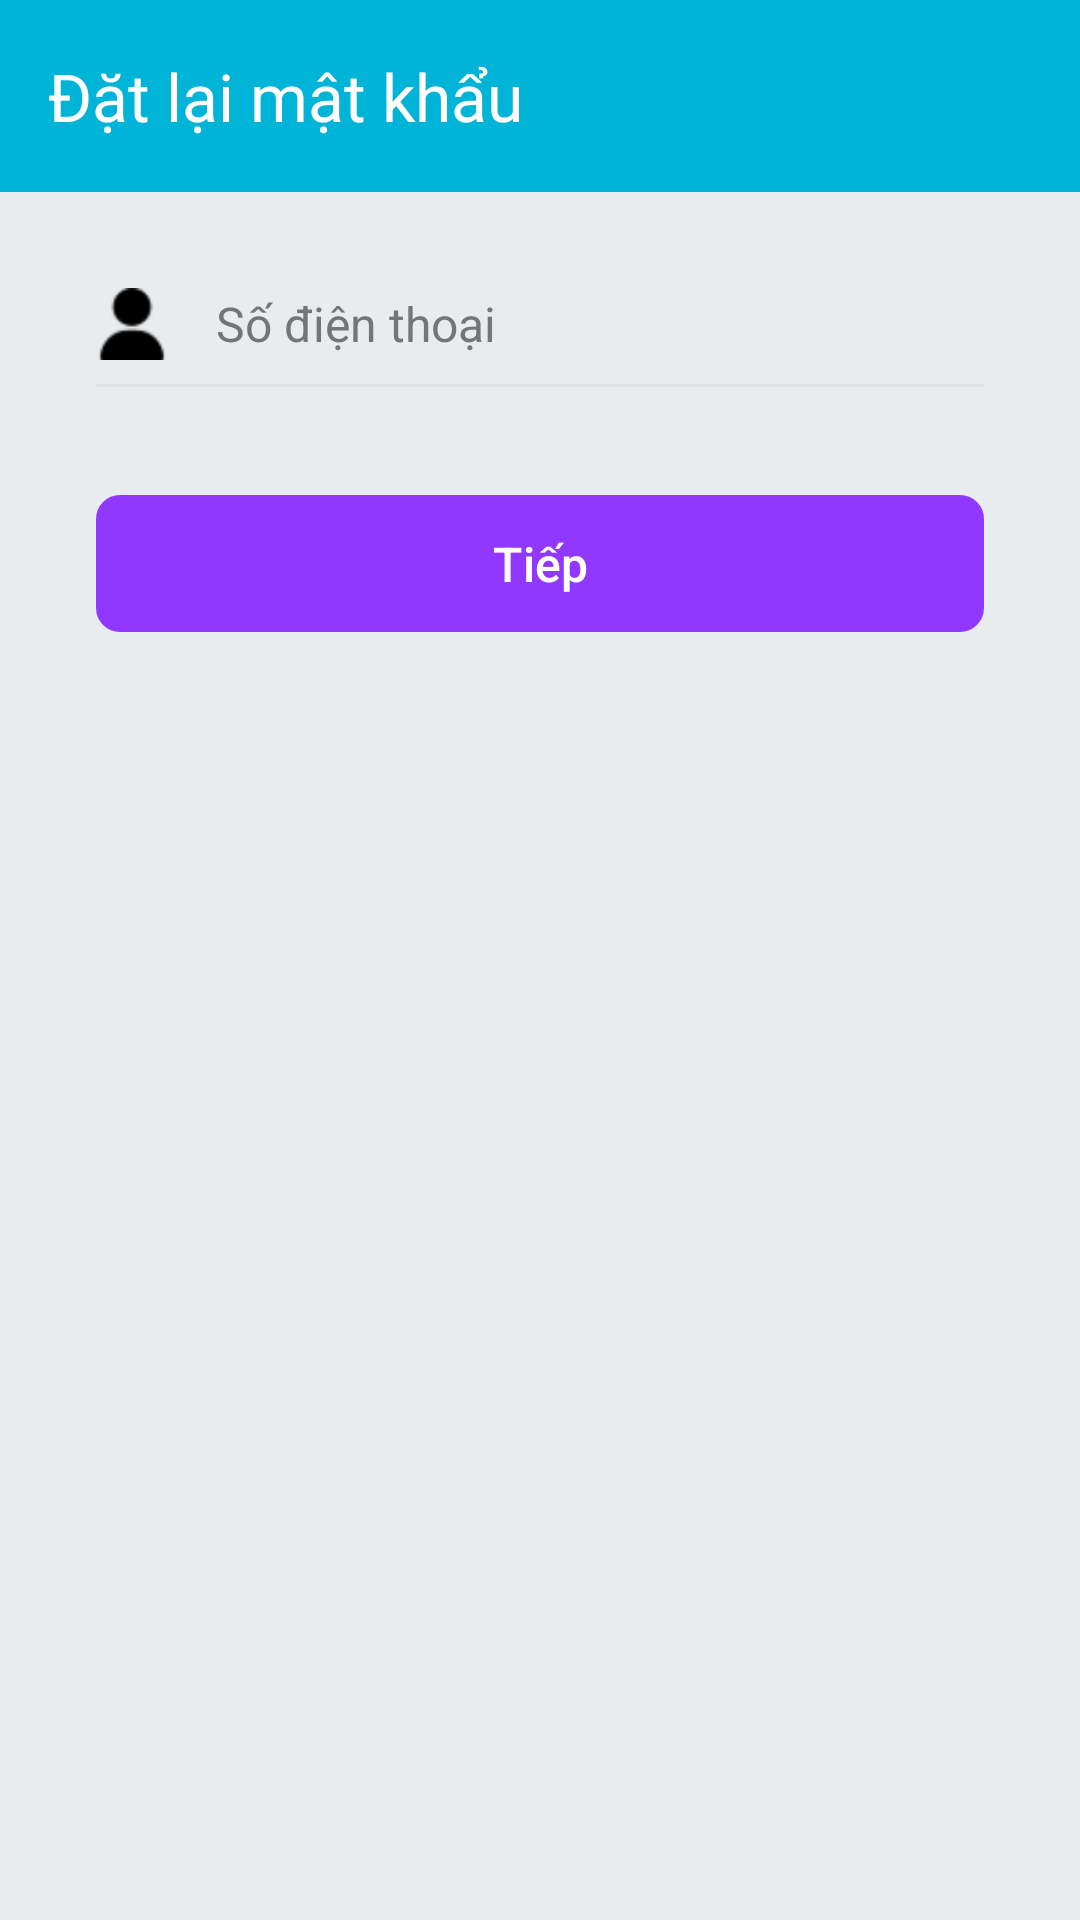

Where to tap for icons on this 1080*1920 app screen, as (x,y):
person: (132,324)
